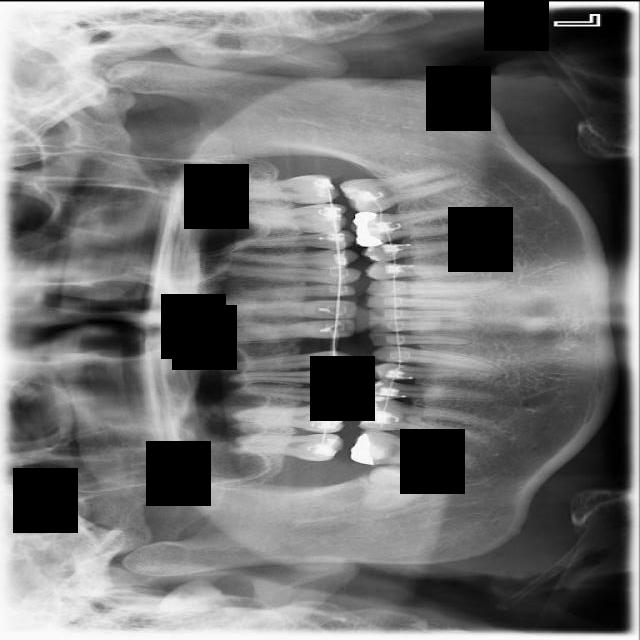52: (348, 207, 399, 247), (349, 428, 400, 465), (357, 395, 407, 430), (289, 432, 343, 462), (298, 400, 348, 432)
73: (562, 30, 574, 34)
BioHorizons Implant: (207, 169, 339, 216)
Blue Sky Bio Implant: (340, 165, 470, 216)
Caries: (202, 432, 343, 463)
Implant: (349, 425, 477, 476)
Keystone Dental Implant: (361, 461, 440, 513)
